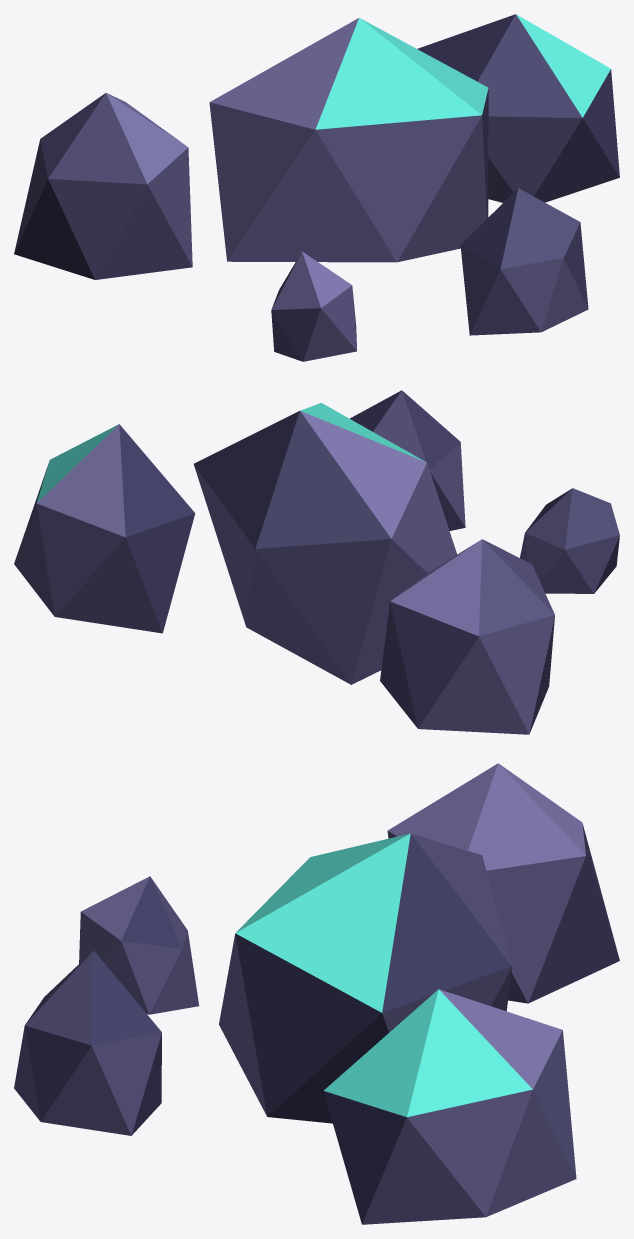
File: rock_cluster_deep.fbx
The picture shows the model from 3 angles, top to bottom: view 1: azimuth 30°, elevation 25°; view 2: azimuth 150°, elevation 25°; view 3: azimuth 270°, elevation 25°; orthographic projection. The views are drawn at different scales.
Parts seen in each view (by area): view 1: rock_cluster_deep; view 2: rock_cluster_deep; view 3: rock_cluster_deep.
Part boxes in pixels (<box>): rock_cluster_deep: <box>14,14,619,361</box>; rock_cluster_deep: <box>14,390,619,734</box>; rock_cluster_deep: <box>14,763,619,1224</box>.
Size of the model in its own units: 680 by 269 by 543.
Materials: 1 (1 with a texture image).
